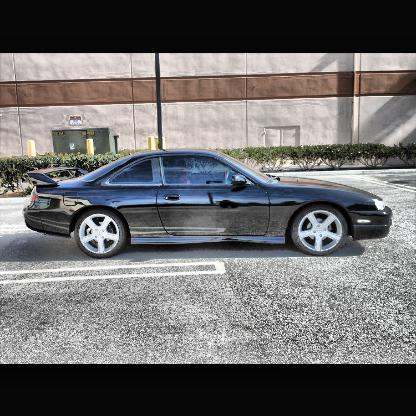Nissan 240SX Coupe 1998: (23, 144, 396, 261)
